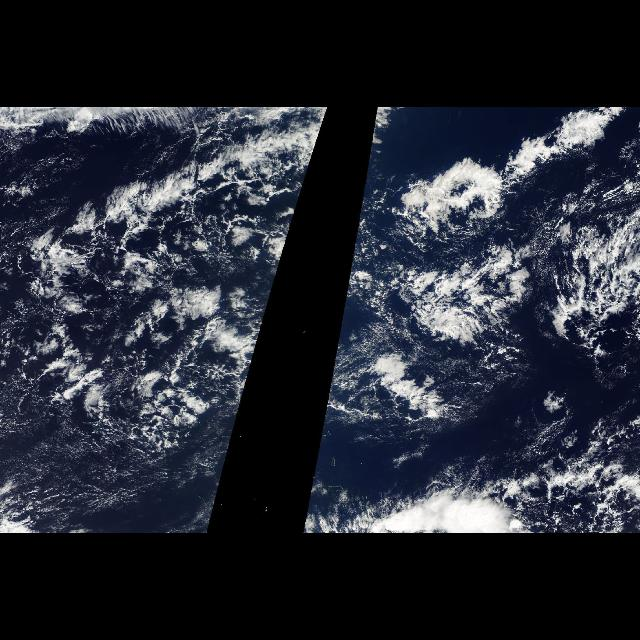Fish: (388, 126, 640, 476), (42, 117, 324, 265), (348, 117, 382, 265)
Gravel: (2, 140, 234, 490)
Sugar: (59, 191, 300, 351), (12, 432, 194, 512)
